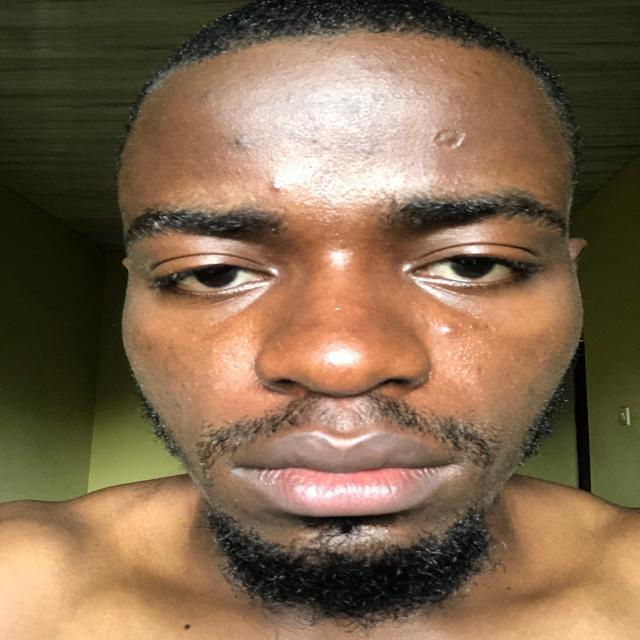Acne: (422, 117, 490, 167), (424, 302, 479, 352), (264, 158, 324, 203)
